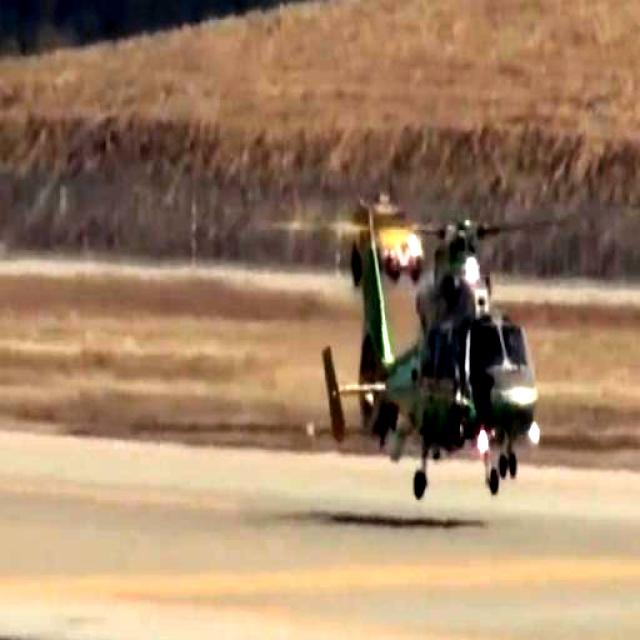drone: (309, 166, 551, 495)
